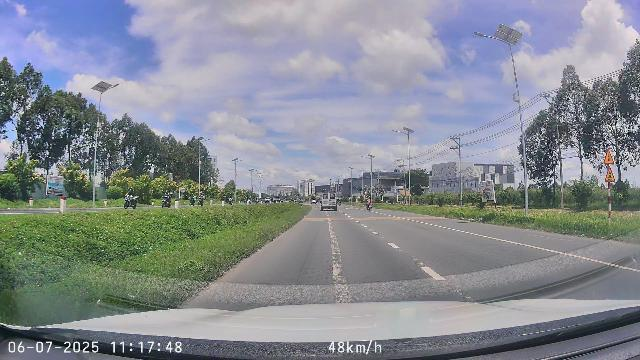209-giao-nhau-co-tin-hieu-den: (603, 149, 614, 165)
224-duong-nguoi-di-bo-cat-ngang: (605, 166, 616, 182)
